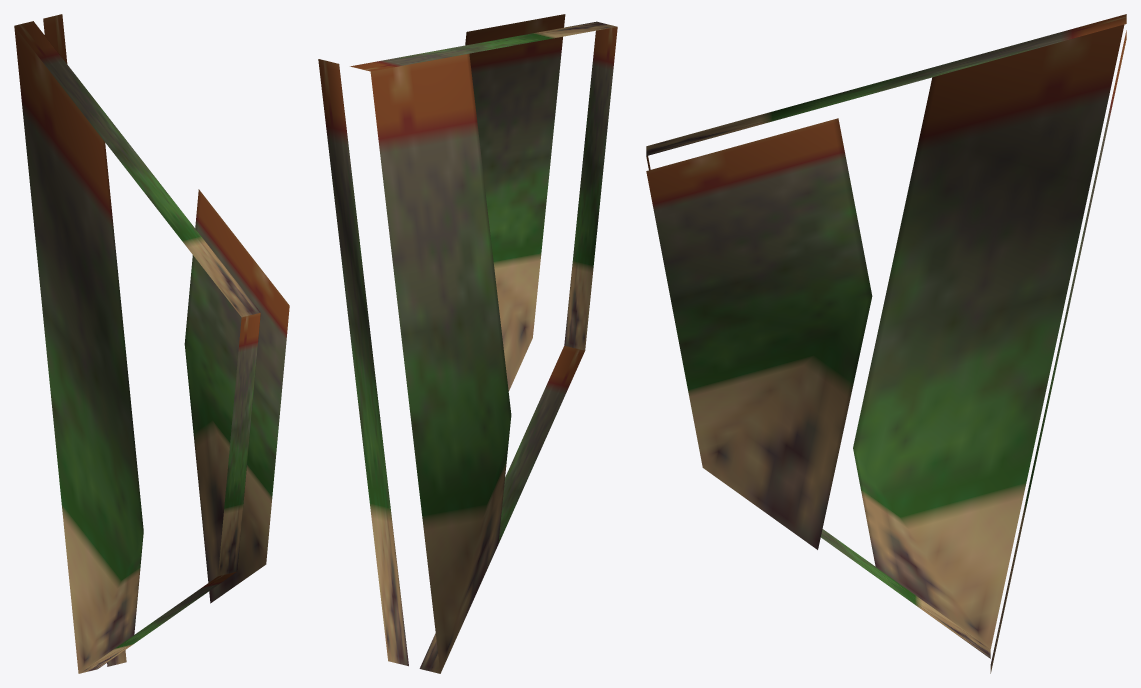
3 renders of one model, left to right at view 1: azimuth 30°, elevation 25°; view 2: azimuth 150°, elevation 25°; view 3: azimuth 270°, elevation 25°, orthographic. The views are drawn at different scales.
Parts seen in each view (by area): view 1: T1L3M003_26; view 2: T1L3M003_26; view 3: T1L3M003_26.
Boxes of the visible parts, x1,y1,x2,y2 form: T1L3M003_26: (14, 14, 289, 673); T1L3M003_26: (318, 14, 617, 673); T1L3M003_26: (646, 14, 1126, 673).
Size of the model in its own units: 0.1094 by 1.22 by 0.8389.
